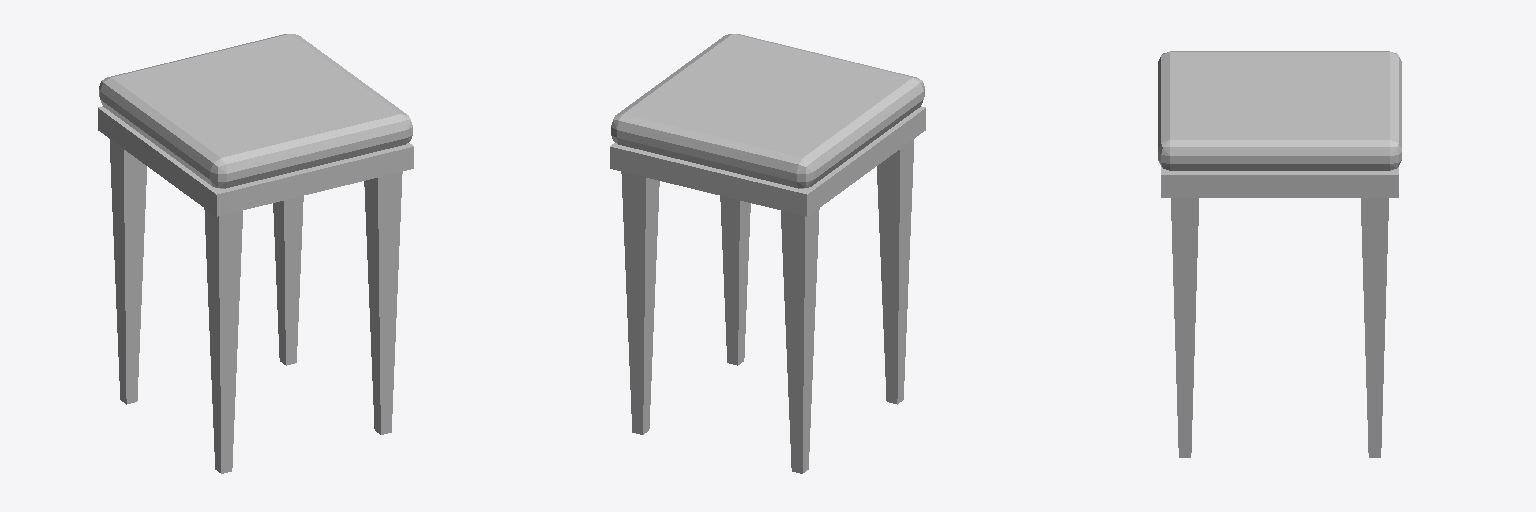
The model's file is Stool_B.obj.
3 renders of one model, left to right at view 1: azimuth 30°, elevation 25°; view 2: azimuth 150°, elevation 25°; view 3: azimuth 270°, elevation 25°, orthographic.
Parts seen in each view (by area): view 1: Stool_B; view 2: Stool_B; view 3: Stool_B.
Boxes of the visible parts, <box> form: Stool_B: <box>98,34,413,473</box>; Stool_B: <box>610,34,925,473</box>; Stool_B: <box>1158,51,1401,457</box>.
Size of the model in its own units: 0.4769 by 0.7244 by 0.5016.